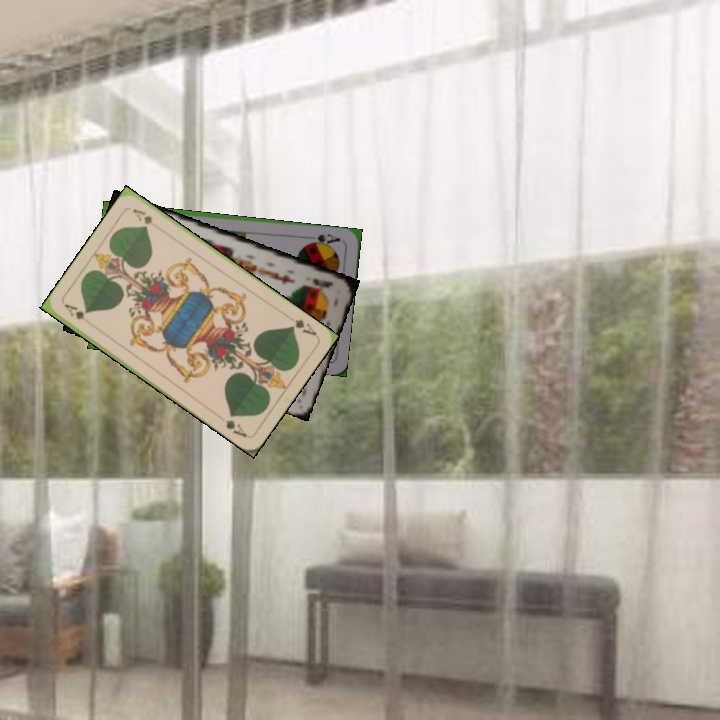GA: (60, 300, 96, 329), (287, 315, 319, 339)
SA: (303, 229, 343, 249)
SK: (308, 274, 336, 291)
